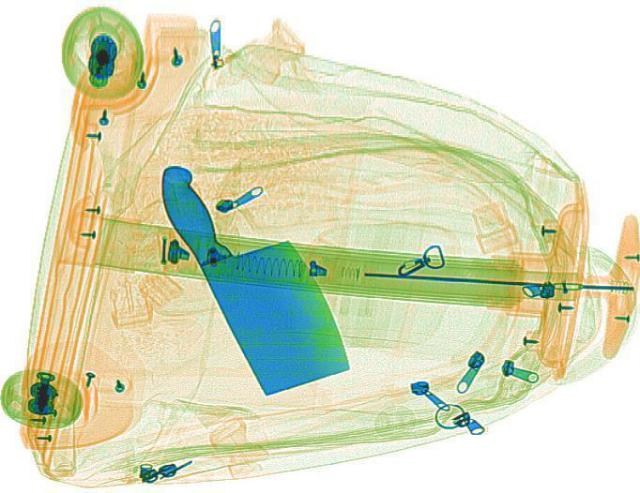Knife: (134, 143, 370, 398)
